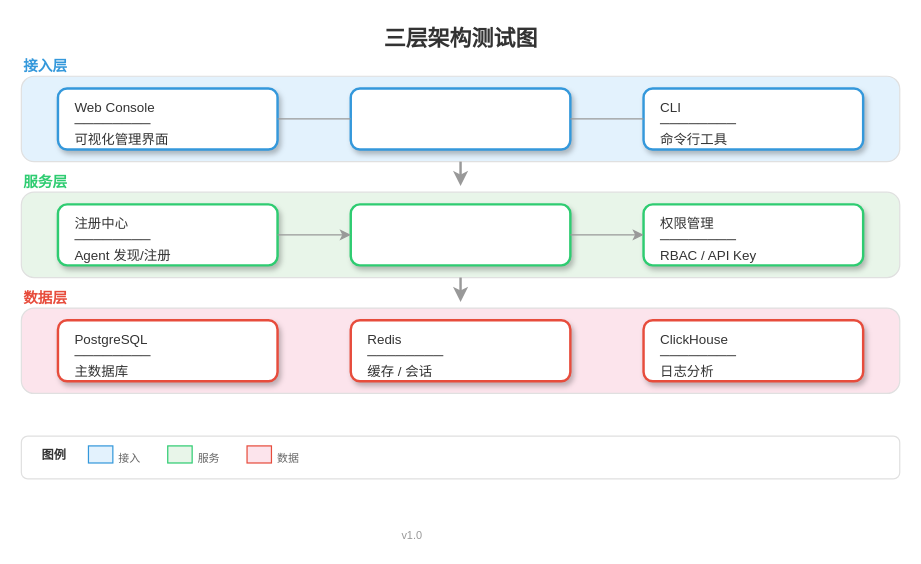
The diagram is 921 pixels wide and 564 high, and some of its shapes have lost their labels. Each missing label, with the centre of its shape:
"OpenAPI ──────── REST/gRPC 接口" goes at (461,120).
"配置中心 ──────── 动态配置管理" goes at (461,236).
